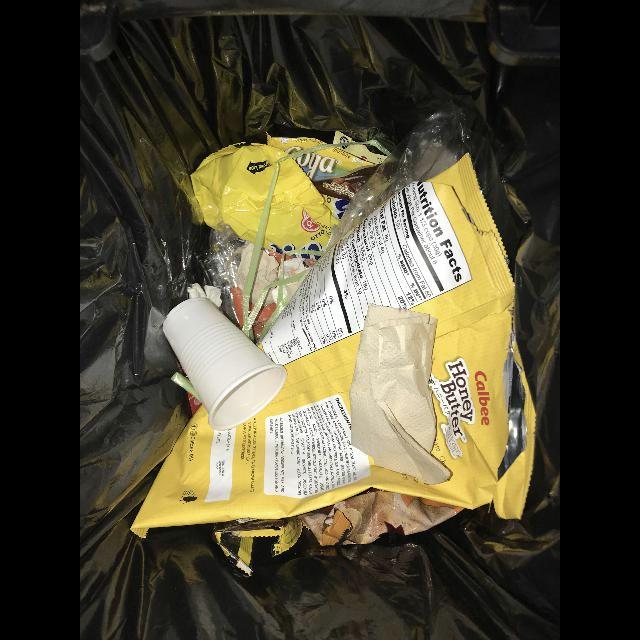food_wrapper: (133, 157, 535, 540), (189, 142, 339, 259), (298, 491, 465, 546), (267, 133, 381, 200), (212, 516, 303, 576)
paper: (350, 304, 453, 486)
plastic_container: (162, 297, 287, 431)
